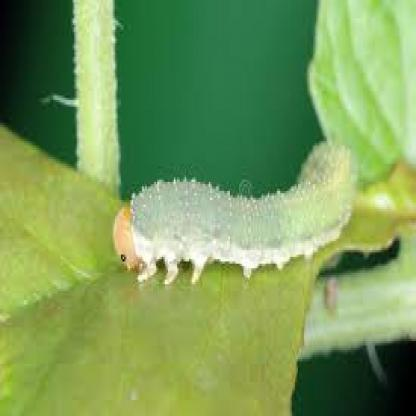sawfly: (110, 132, 362, 290)
